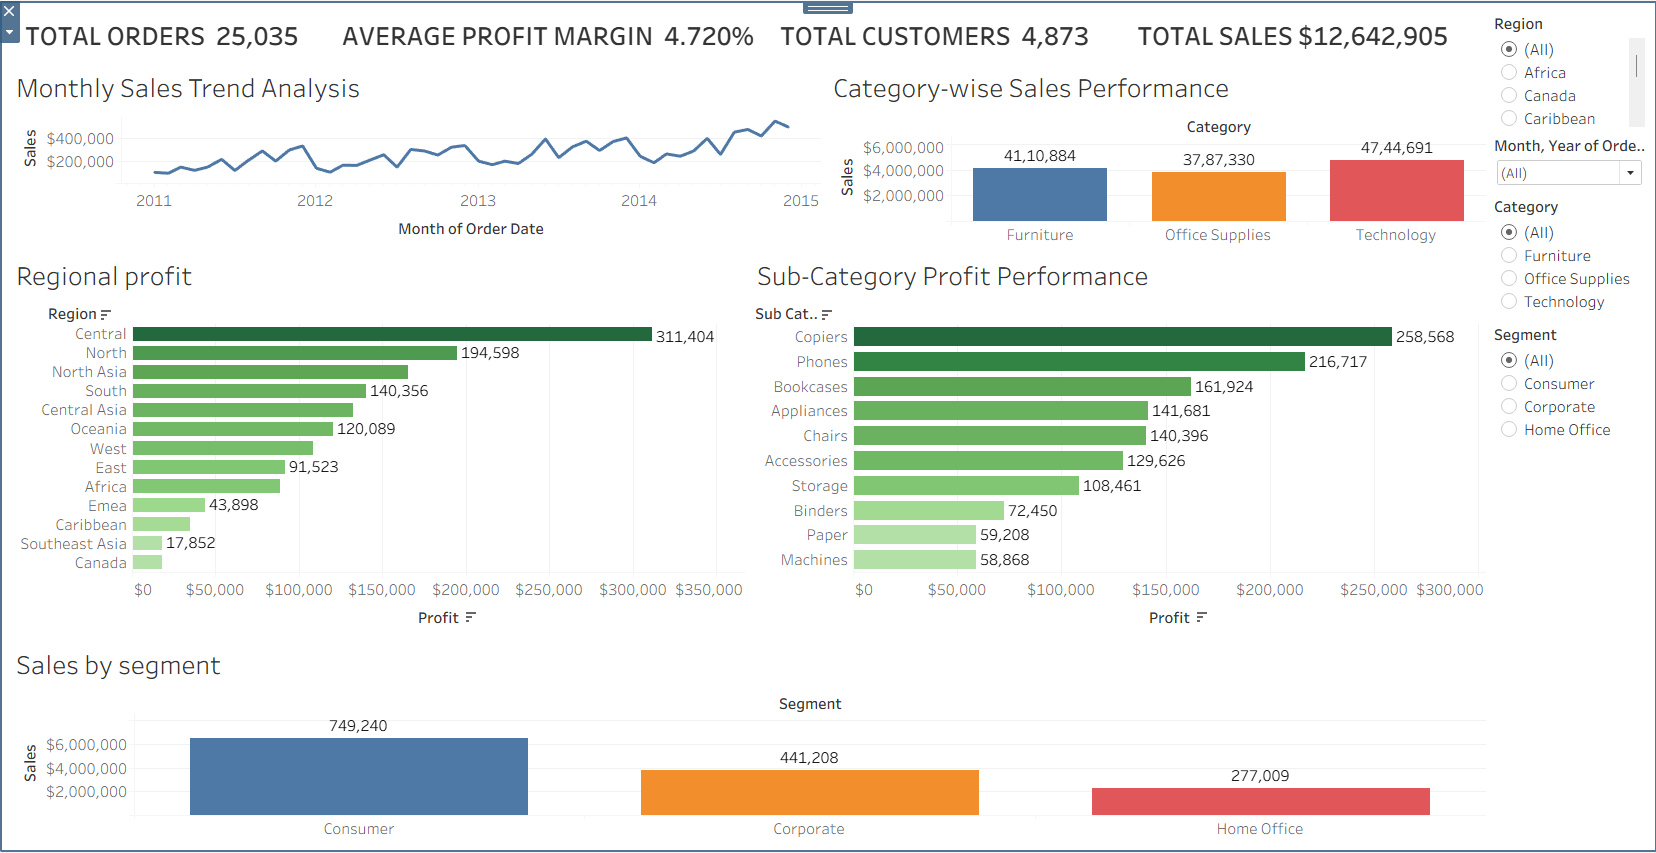

What the dashboard file says about the page in this screenshot:
{"tool":"tableau","page":{"name":"Global Superstore Sales Dashboard","canvas":[1000,1000],"units":"permille","ordinal":0},"visuals":[{"type":"worksheet","title":"TOTAL ORDERS","mark":"Automatic","box":[4.8,9.4,196.7,62.3]},{"type":"worksheet","title":"Profit margin","mark":"Automatic","box":[201.6,9.4,262.5,62.3]},{"type":"worksheet","title":"TOTAL CUSTOMERS","mark":"Automatic","box":[464.1,9.4,217.5,62.3]},{"type":"worksheet","title":"Total Sales","mark":"Automatic","box":[681.6,9.4,217.5,62.3]},{"type":"filter","title":"Sales by segment","param":"[federated.0fa2omn0bhontq14tzx5312ifmyh].[none:region:nk]","box":[899,9.4,96.1,143.4]},{"type":"worksheet","title":"Monthly Sales Trend Analysis","mark":"Automatic","rows":["sales"],"cols":["order_date"],"box":[4.8,71.7,492.9,220.9]},{"type":"worksheet","title":"Category-wise Sales Performance","mark":"Automatic","rows":["sales"],"cols":["category"],"box":[497.7,71.7,401.3,220.9]},{"type":"filter","title":"Regional profit","param":"[federated.0fa2omn0bhontq14tzx5312ifmyh].[my:order_date:ok]","box":[899,152.8,96.1,71.7]},{"type":"filter","title":"Regional profit","param":"[federated.0fa2omn0bhontq14tzx5312ifmyh].[none:category:nk]","box":[899,224.4,96.1,150.4]},{"type":"worksheet","title":"Regional profit","mark":"Automatic","rows":["region"],"cols":["profit"],"box":[4.8,292.6,447,457.1]},{"type":"worksheet","title":"Sub-Category Profit Performance","mark":"Automatic","rows":["sub_category"],"cols":["profit"],"box":[451.9,292.6,447.2,457.1]},{"type":"filter","title":"Regional profit","param":"[federated.0fa2omn0bhontq14tzx5312ifmyh].[none:segment:nk]","box":[899,374.9,96.1,150.4]},{"type":"worksheet","title":"Sales by segment","mark":"Automatic","rows":["sales"],"cols":["segment"],"box":[4.8,749.7,894.2,240.9]}]}

Visuals, with their boxes on the dashboard's canvas, which has no fixed pixel size, in thousandths of its width and height (x1, y1, x2, y2). These are canvas units, not pixel positions in the 1656x853 screenshot, which may show the page scaled, cropped or inside an application window:
"TOTAL ORDERS" worksheet: (5,9,202,72)
"Profit margin" worksheet: (202,9,464,72)
"TOTAL CUSTOMERS" worksheet: (464,9,682,72)
"Total Sales" worksheet: (682,9,899,72)
"Sales by segment" filter: (899,9,995,153)
"Monthly Sales Trend Analysis" worksheet: (5,72,498,293)
"Category-wise Sales Performance" worksheet: (498,72,899,293)
"Regional profit" filter: (899,153,995,224)
"Regional profit" filter: (899,224,995,375)
"Regional profit" worksheet: (5,293,452,750)
"Sub-Category Profit Performance" worksheet: (452,293,899,750)
"Regional profit" filter: (899,375,995,525)
"Sales by segment" worksheet: (5,750,899,991)
